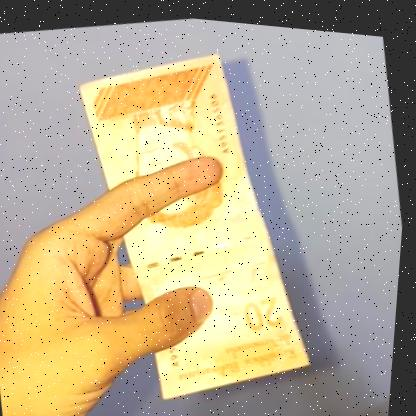twenty-front-vef: (54, 30, 337, 416)
